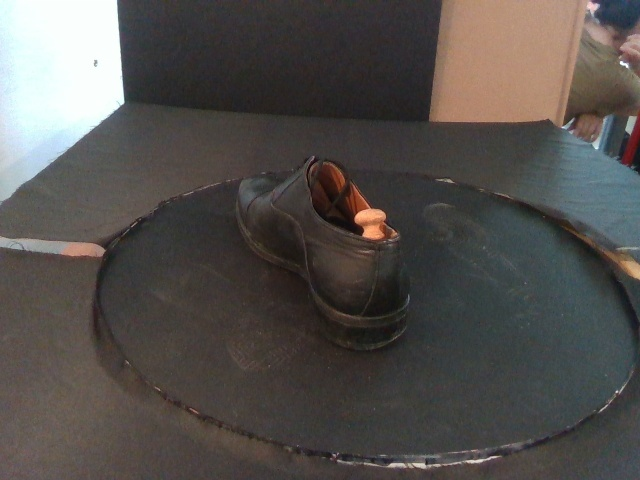shoe: (234, 153, 411, 352)
